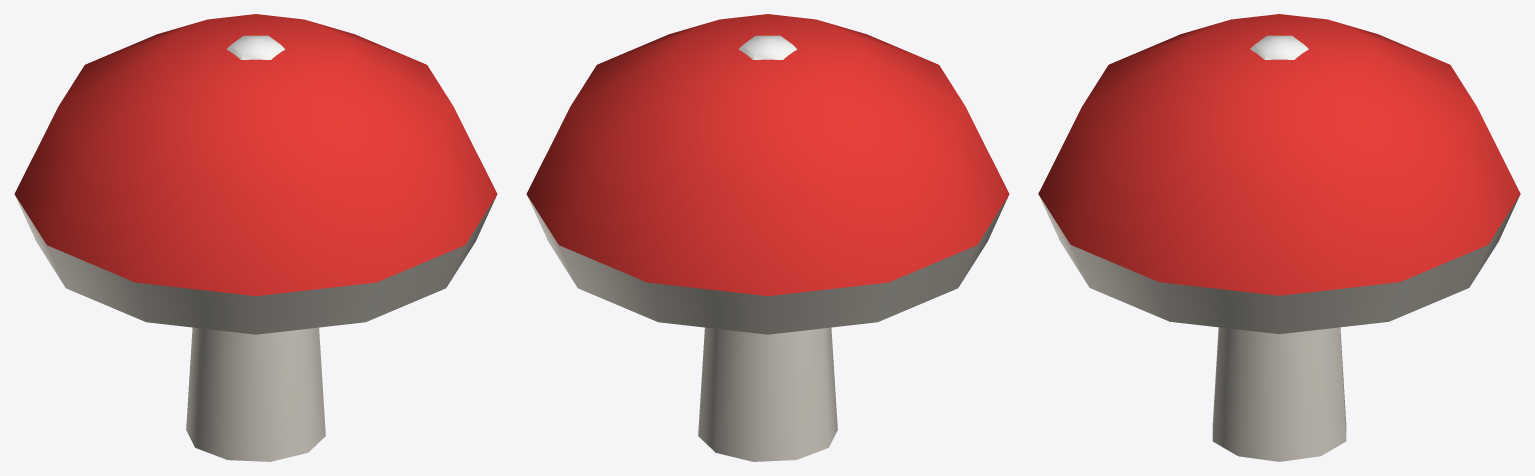
The model's file is Mushroom.fbx.
The picture shows the model from 3 angles, left to right: view 1: azimuth 30°, elevation 25°; view 2: azimuth 150°, elevation 25°; view 3: azimuth 270°, elevation 25°; orthographic projection.
Visible parts, largest first — view 1: Mushroom; view 2: Mushroom; view 3: Mushroom.
Part boxes in pixels (<box>): Mushroom: <box>14,14,497,461</box>; Mushroom: <box>526,14,1009,461</box>; Mushroom: <box>1038,14,1520,461</box>.
Bounding box in the file's own units: 1.1 × 0.986 × 1.1.
Materials: 1 (1 with a texture image).
